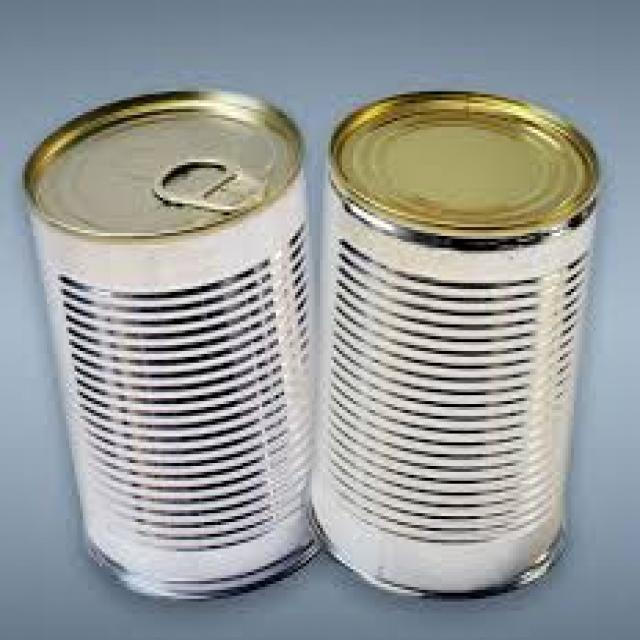metal-can: (19, 85, 328, 603), (307, 87, 608, 603)
